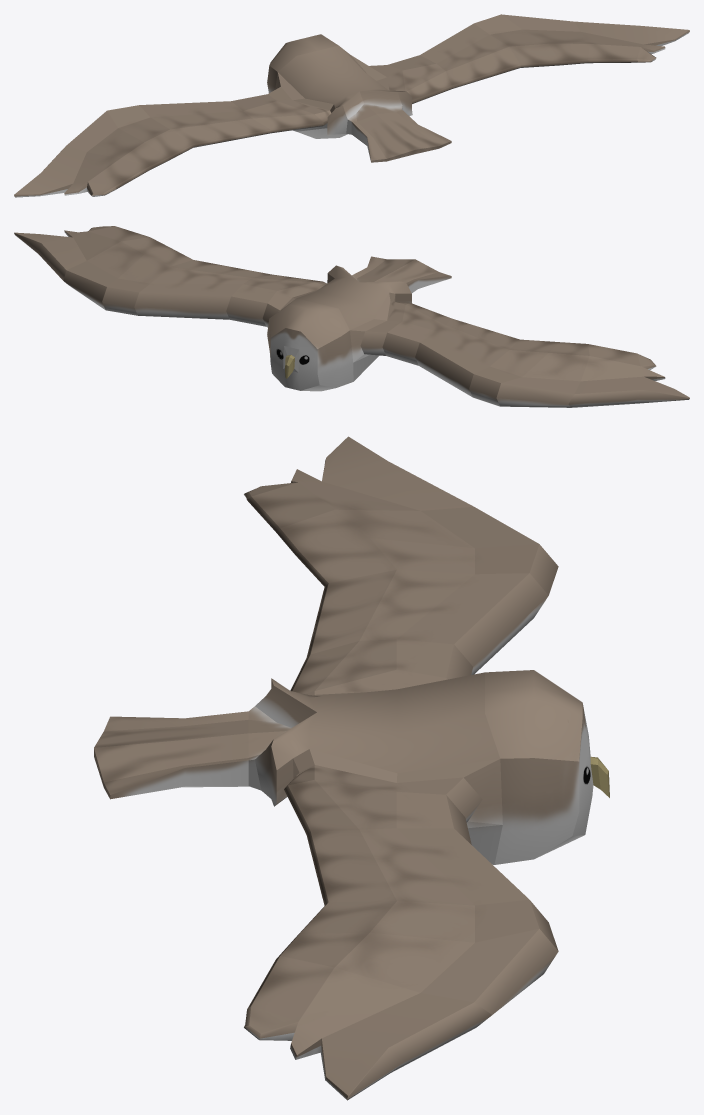
File: owl_GEO.obj
3 views of the same model, one above another, from view 1: azimuth 30°, elevation 25°; view 2: azimuth 150°, elevation 25°; view 3: azimuth 270°, elevation 25° (orthographic). The views are drawn at different scales.
Parts seen in each view (by area): view 1: owl_GEO; view 2: owl_GEO; view 3: owl_GEO.
Boxes of the visible parts, x1=… form: owl_GEO: x1=14, y1=14, x2=689, y2=197; owl_GEO: x1=14, y1=226, x2=689, y2=407; owl_GEO: x1=94, y1=436, x2=609, y2=1100.
Bounding box in the file's own units: 35.94 × 4.2 × 11.89.
1 material, 1 textured.
